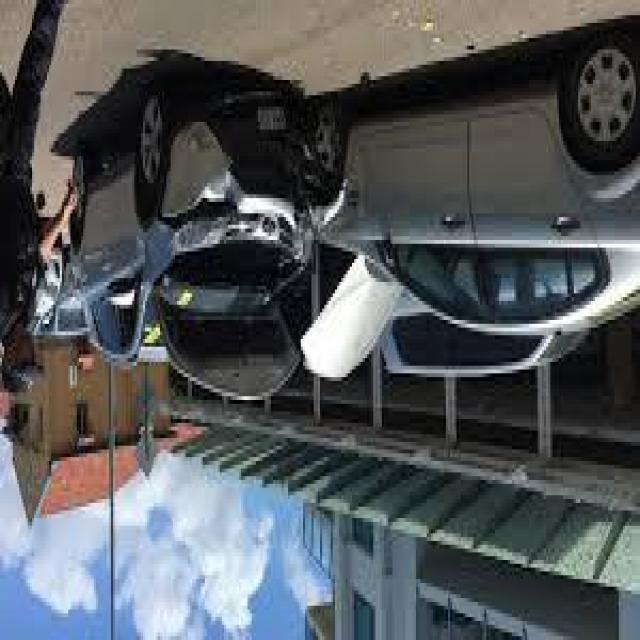vehicle: (294, 41, 575, 432), (69, 110, 341, 436)
